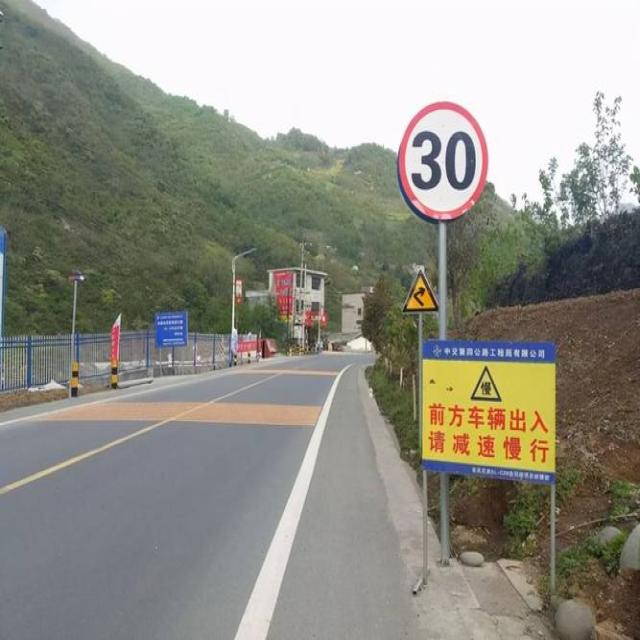speed limit 30: (397, 100, 488, 220)
